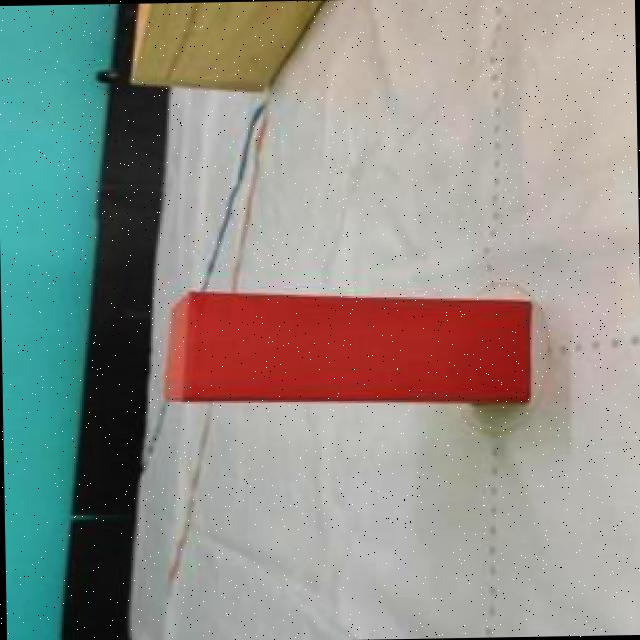redbox: (158, 284, 532, 408)
